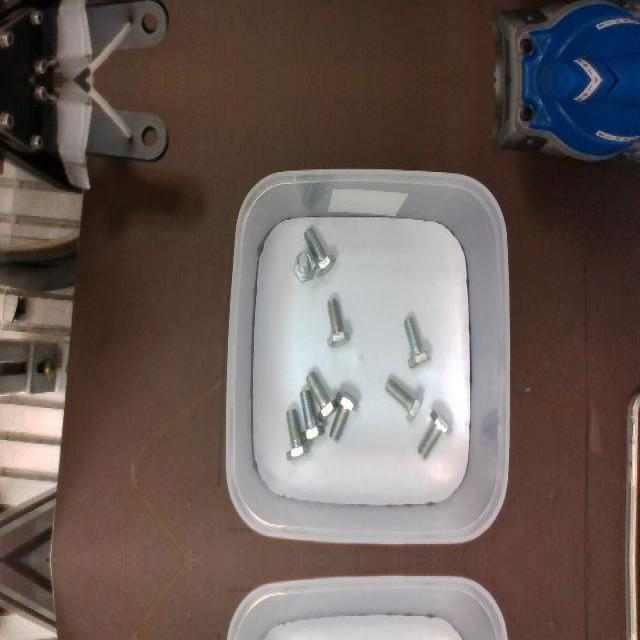screw: (383, 377, 423, 423), (417, 409, 453, 459), (305, 370, 339, 422), (303, 227, 336, 277), (328, 388, 358, 442), (403, 316, 432, 368), (300, 388, 325, 442), (285, 408, 310, 460), (326, 298, 350, 348), (293, 252, 315, 282)
